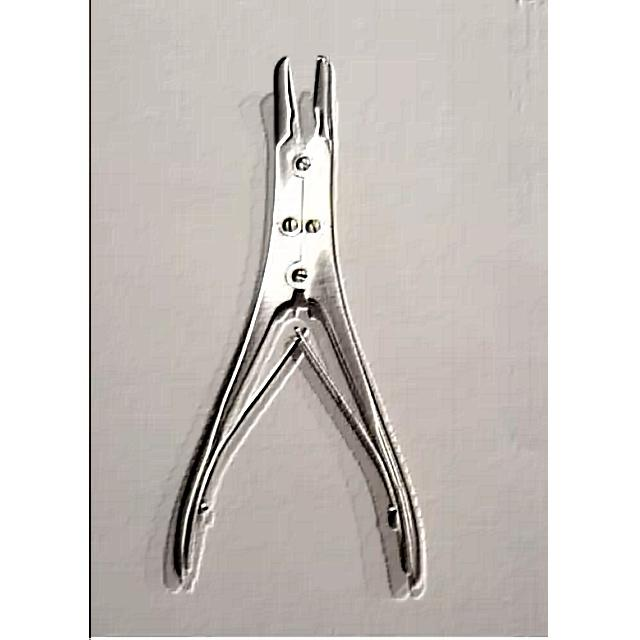gubia: (170, 57, 426, 601)
